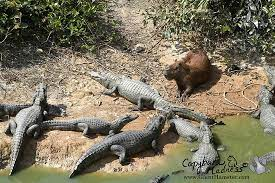capivara: (164, 48, 214, 101)
